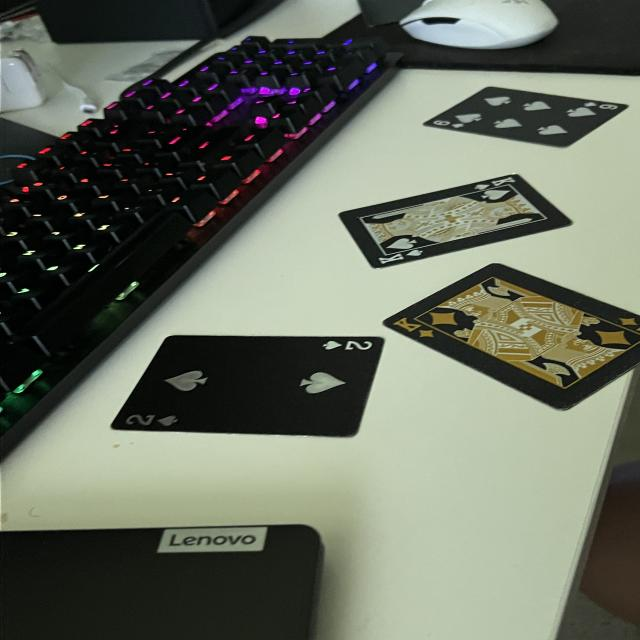2S: (119, 408, 188, 432), (317, 336, 381, 358)
6S: (428, 114, 471, 133), (584, 98, 622, 116)
KD: (394, 313, 444, 341)
KS: (372, 249, 436, 267), (474, 178, 518, 190)
